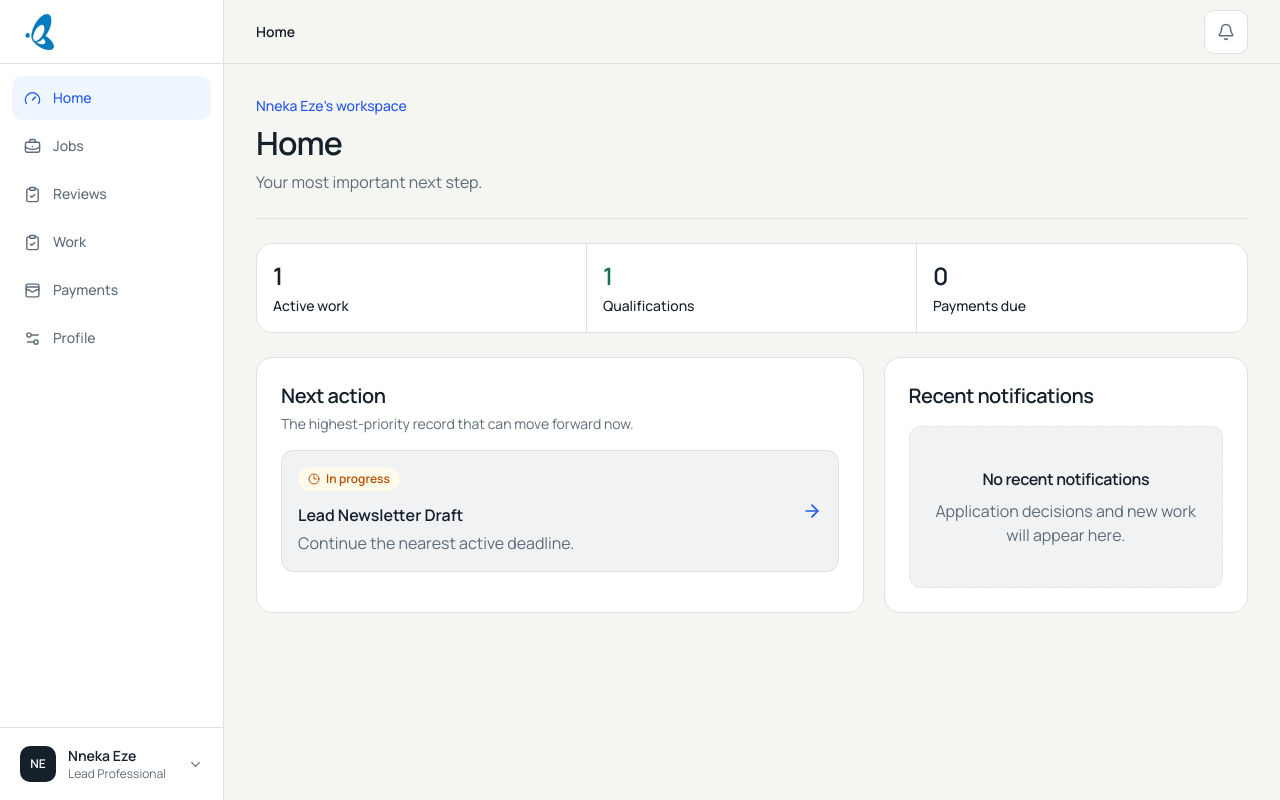
application routing › keeps desktop account actions available for lead users
The image size is (1280, 800).
Click the button with aria-label "Open desktop user menu" at (112, 764), box [12,740,211,788]
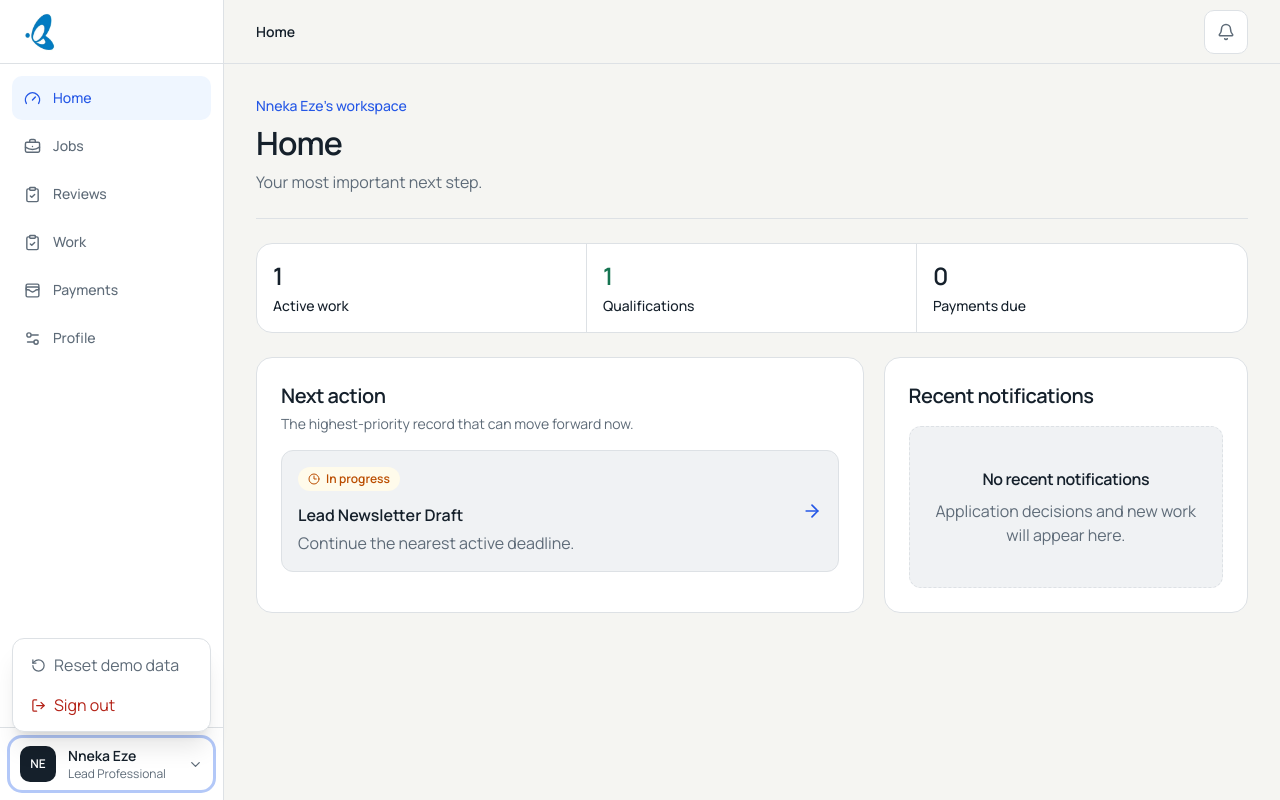
Check: the button "Reset demo data" is shown, box [19,645,204,685]
Check: the button "Sign out" is shown, box [19,685,204,725]
